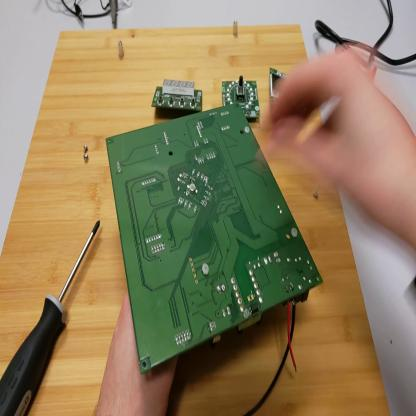hand: (272, 48, 413, 233), (96, 291, 177, 416)
low voltage board: (106, 104, 325, 377)
oscilloscope probe tip: (109, 2, 118, 29)
screwdriver-: (1, 218, 101, 415)
working area: (2, 32, 390, 413)
